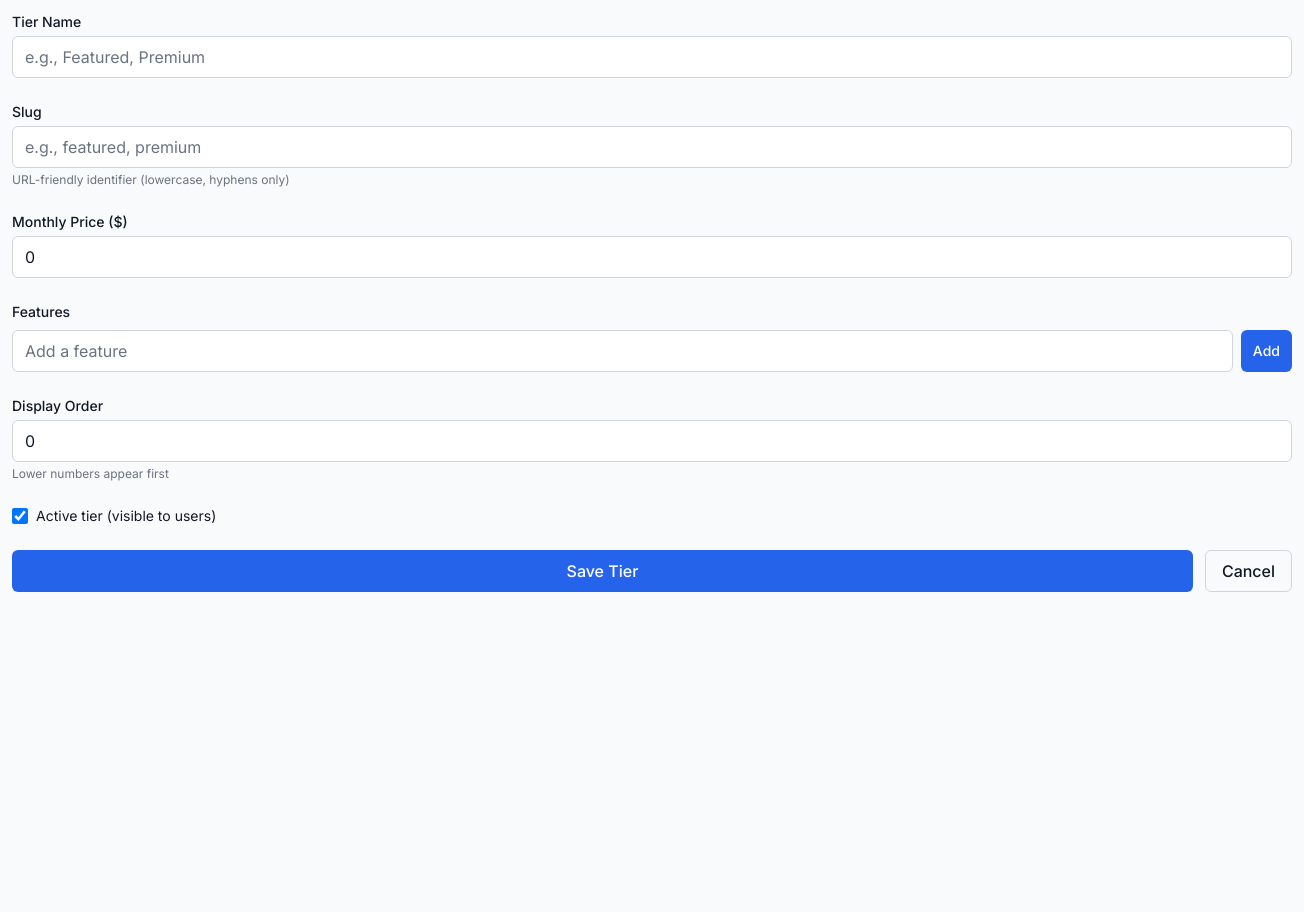
Test: TierForm Component › Slug Validation › should validate slug format
This screenshot has width=1304, height=912.
Type "Test" into the field labelled "Tier Name" at (652, 57), box x1=12 y1=36 x2=1292 y2=78
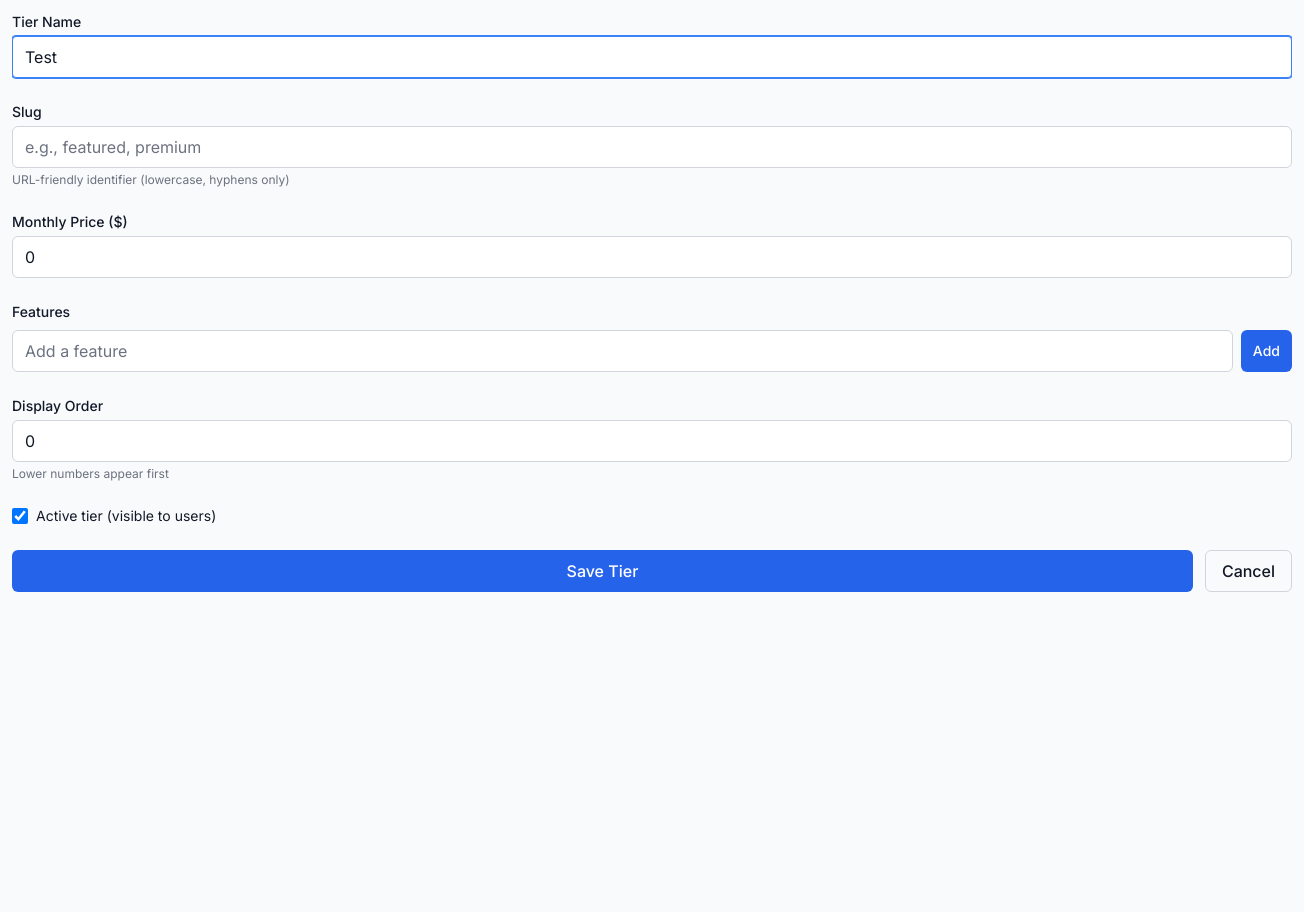
Type "Invalid Slug!" into the field labelled "Slug" at (652, 147), box x1=12 y1=126 x2=1292 y2=168
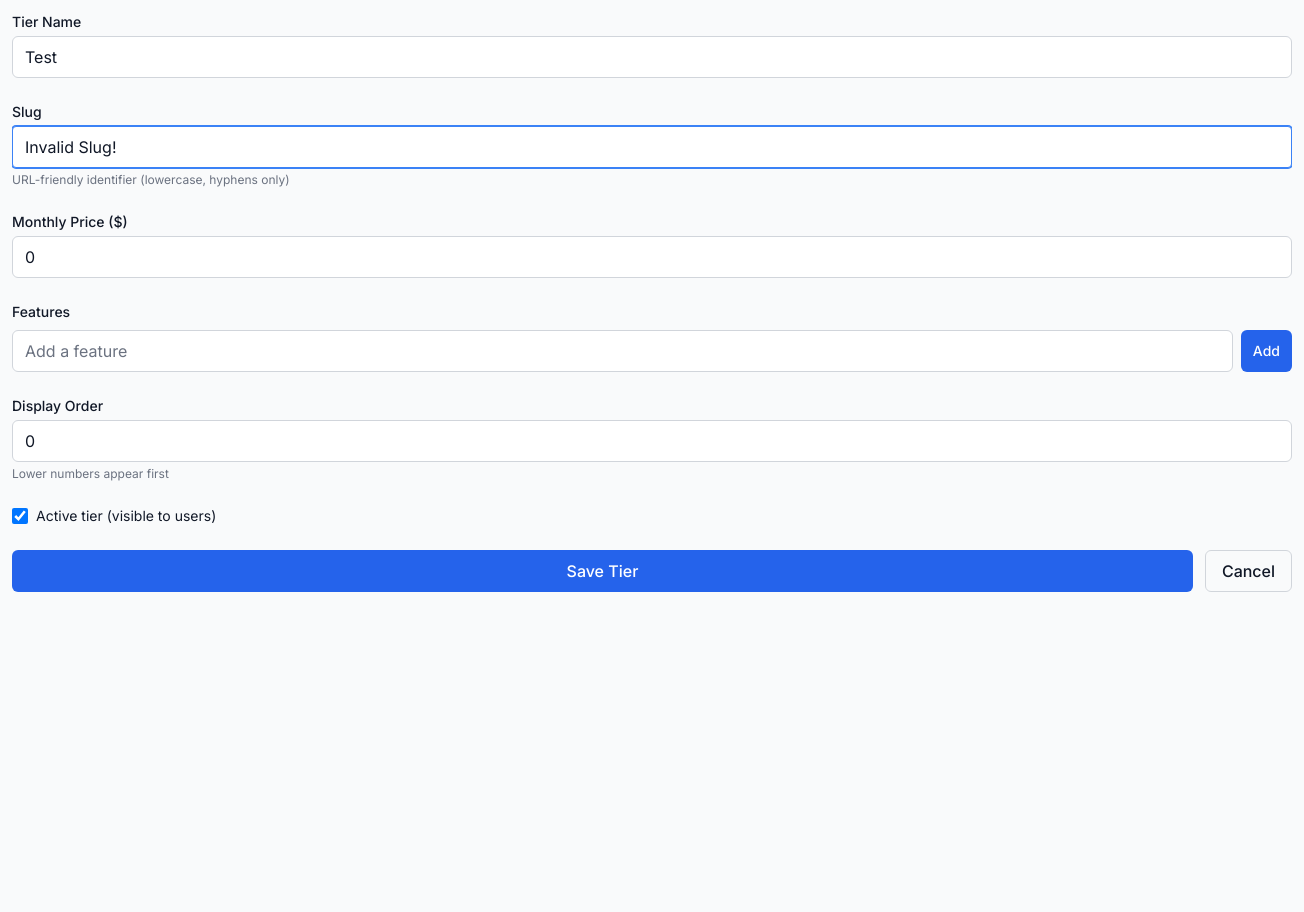
Type "99.99" into the number field labelled "Monthly Price ($)" at (652, 257), box x1=12 y1=236 x2=1292 y2=278
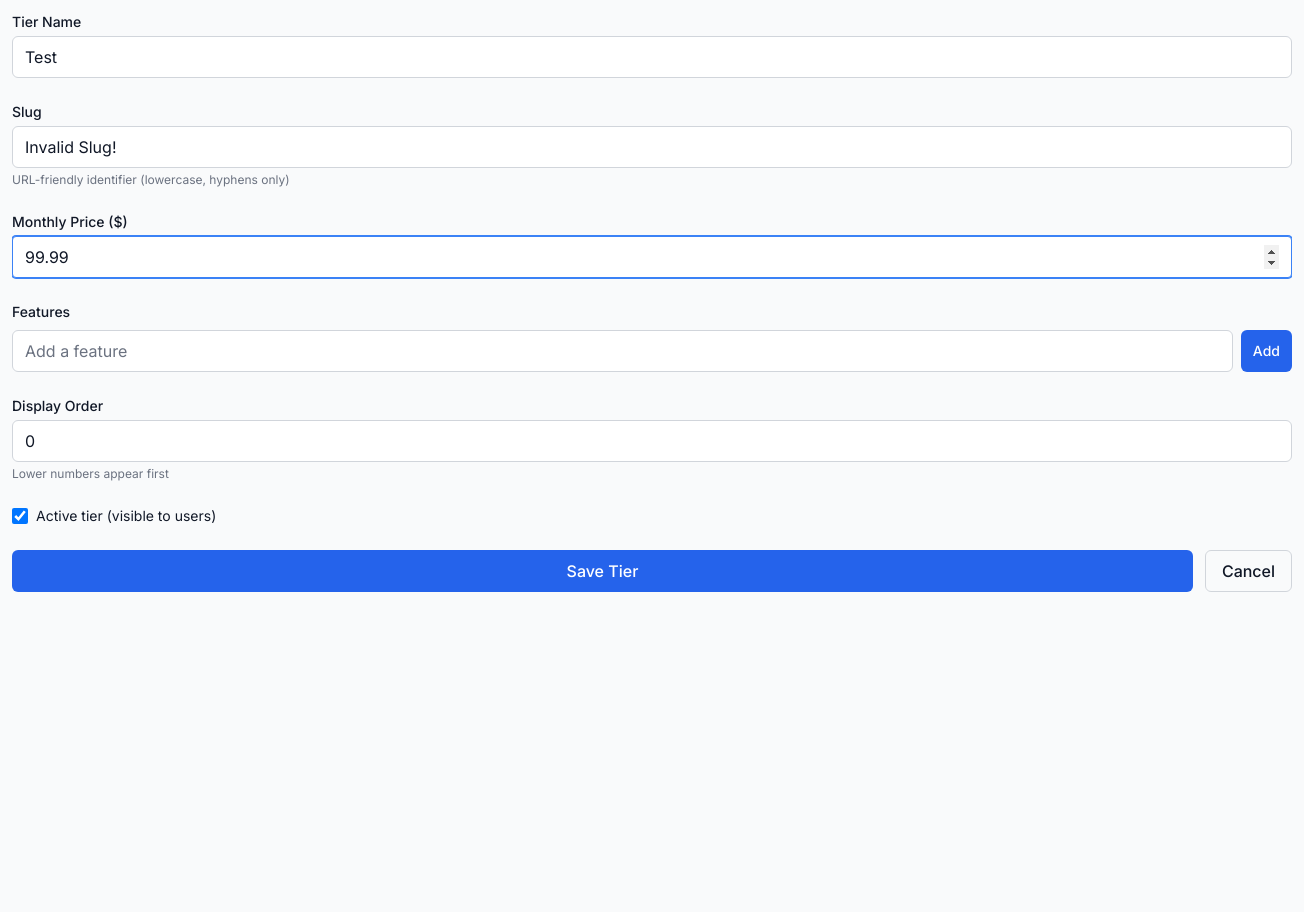
Type "Feature" into the field with placeholder "Add a feature" at (622, 351), box x1=12 y1=330 x2=1233 y2=372
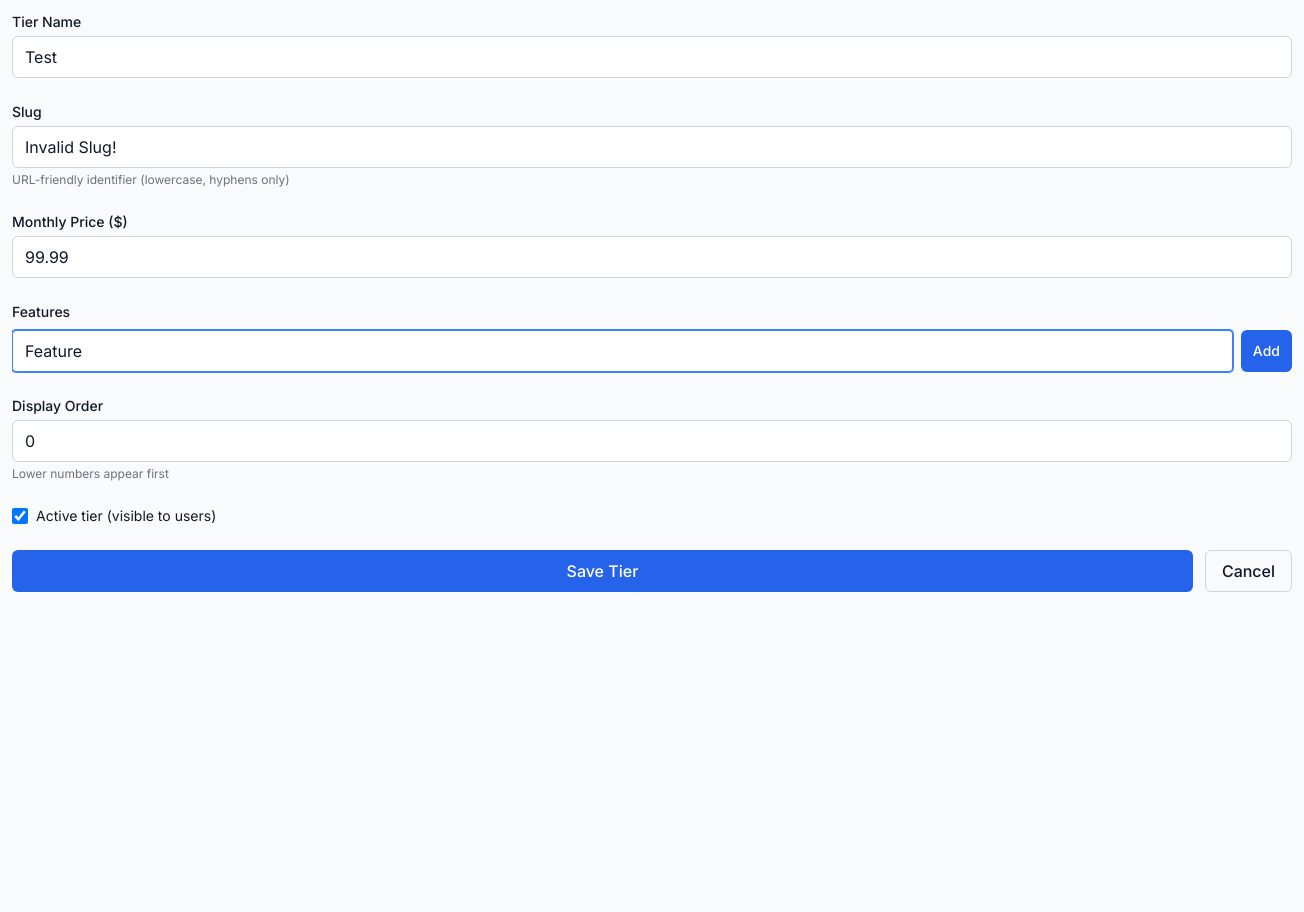
Click the button "Add" at (1266, 351), box x1=1241 y1=330 x2=1292 y2=372
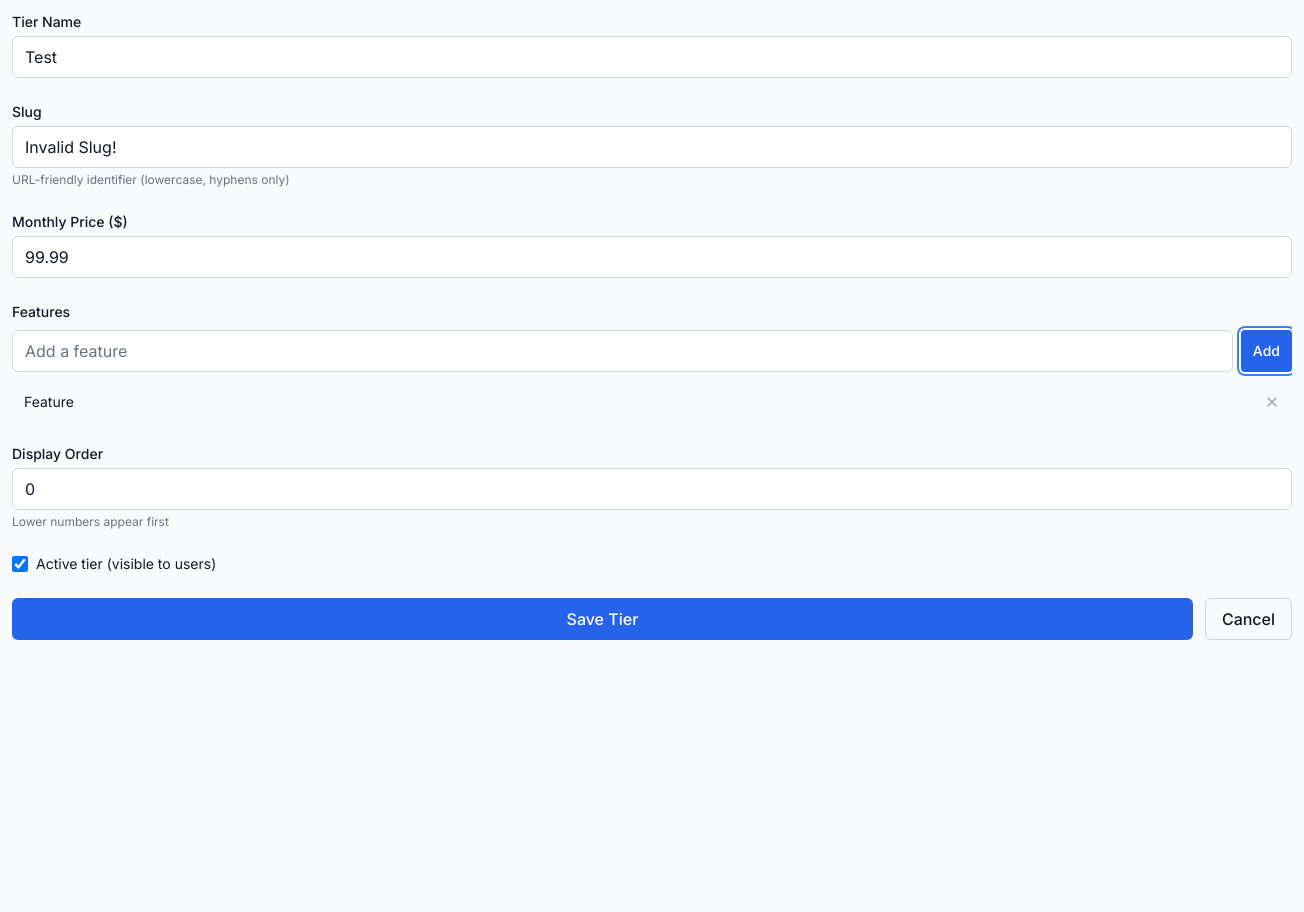
Click the button "Save Tier" at (602, 619), box x1=12 y1=598 x2=1193 y2=640
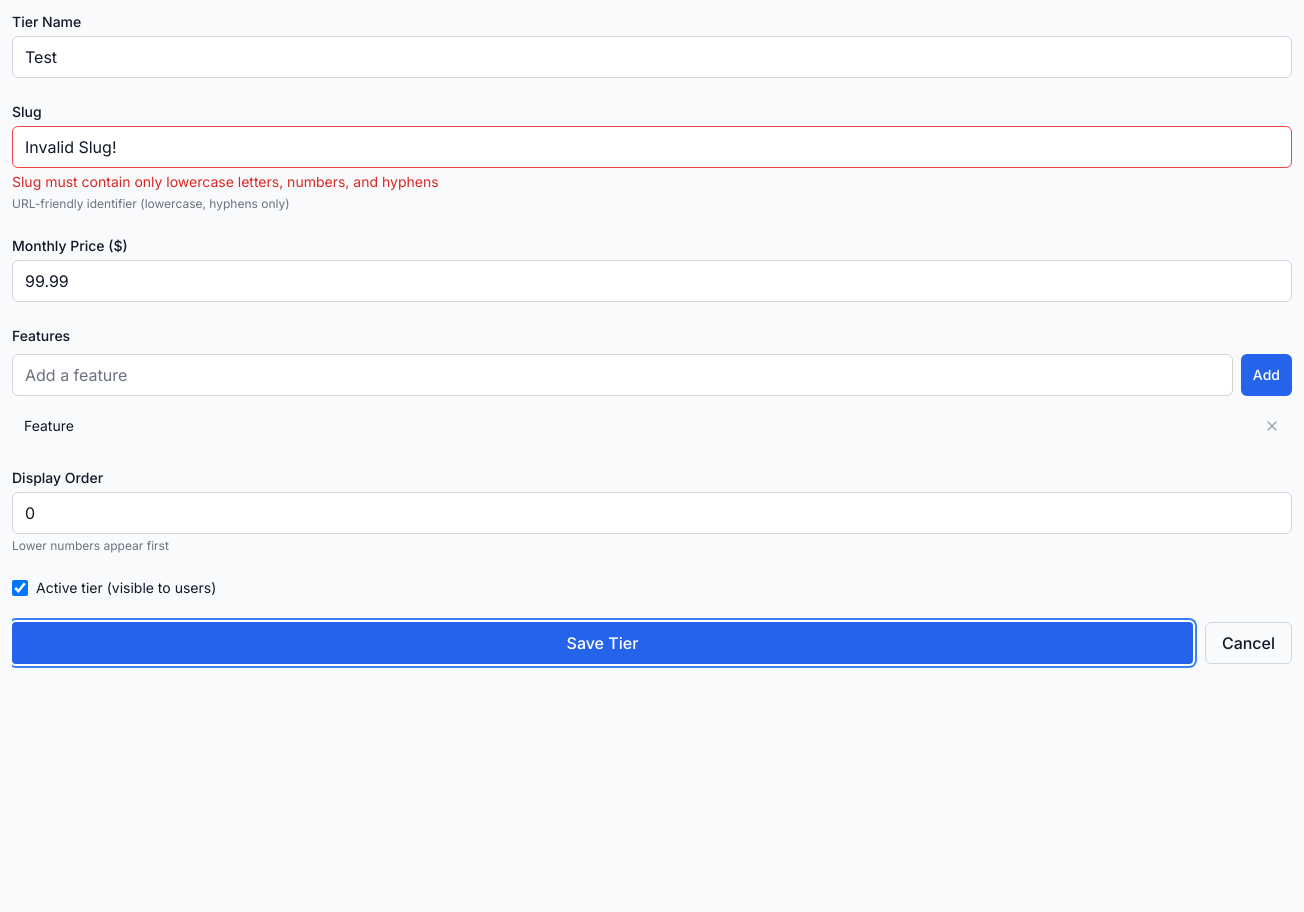
Result: the text "Slug must contain only lowercase letters, numbers, and hyphens" is shown at x1=12 y1=173 x2=439 y2=190
